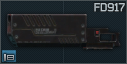Glock 9x19 Fischer Development FD917 sound suppressor: (0, 0, 127, 64)
